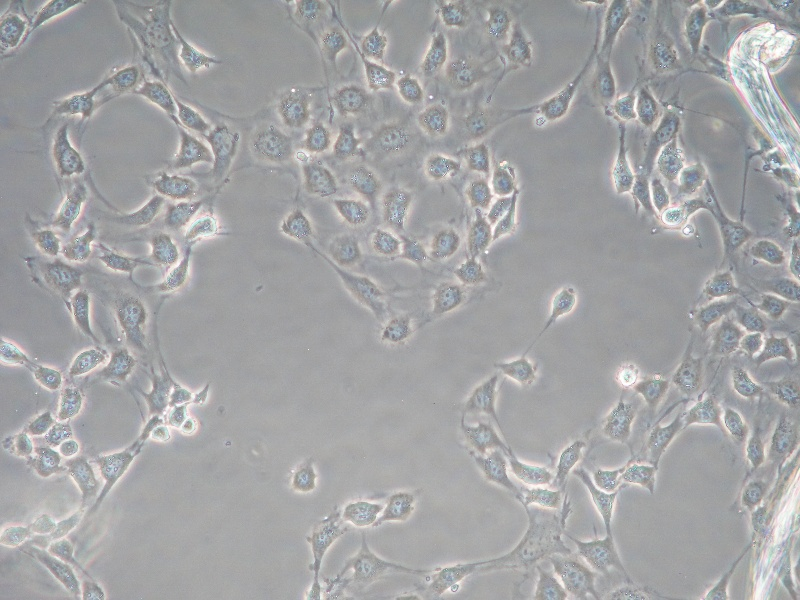cancer: (338, 270, 386, 317), (39, 550, 82, 598), (504, 448, 555, 487), (50, 124, 87, 176), (489, 198, 525, 246), (140, 79, 182, 117), (173, 129, 211, 171), (576, 536, 620, 572), (461, 416, 503, 452), (602, 399, 635, 444), (513, 482, 562, 512), (551, 557, 591, 593), (591, 62, 621, 110), (184, 213, 219, 254), (514, 532, 555, 567), (646, 416, 680, 458), (32, 1, 78, 32), (178, 39, 217, 75), (605, 1, 634, 49), (538, 86, 575, 123), (552, 439, 589, 476), (586, 483, 617, 527), (332, 195, 373, 228), (694, 298, 735, 331), (154, 171, 197, 202), (69, 344, 107, 379), (28, 443, 66, 478), (301, 159, 336, 197), (467, 210, 494, 259), (309, 514, 344, 551), (378, 188, 412, 226), (772, 413, 800, 459), (469, 454, 509, 486), (673, 355, 704, 396), (746, 237, 787, 268), (141, 376, 173, 415), (55, 90, 98, 119), (632, 85, 661, 128), (162, 258, 190, 302), (334, 83, 370, 117), (464, 375, 497, 412), (208, 124, 240, 162), (620, 459, 658, 491), (342, 499, 382, 529), (686, 3, 711, 51), (424, 27, 447, 79), (611, 151, 637, 197), (256, 126, 290, 161), (326, 233, 362, 266), (26, 361, 64, 392), (506, 25, 531, 72), (652, 108, 682, 147), (175, 99, 208, 134), (64, 461, 99, 494), (418, 104, 451, 139), (106, 348, 137, 385), (279, 92, 309, 130), (433, 280, 462, 319), (548, 282, 577, 321), (740, 475, 769, 514), (731, 366, 764, 400), (718, 219, 751, 253), (429, 565, 470, 592), (492, 161, 521, 199), (382, 492, 415, 525), (372, 125, 404, 159), (330, 124, 361, 159), (426, 228, 461, 259), (350, 549, 386, 579), (649, 39, 678, 76), (120, 297, 146, 338), (166, 201, 198, 234), (280, 209, 312, 242), (657, 203, 691, 234), (425, 153, 461, 182), (713, 323, 742, 359), (56, 385, 84, 422), (349, 165, 381, 197), (638, 376, 669, 409), (129, 199, 159, 233), (648, 177, 674, 216), (361, 27, 389, 63), (502, 358, 538, 386), (99, 451, 131, 482), (30, 228, 63, 258), (42, 264, 83, 288), (60, 235, 95, 263), (455, 259, 490, 287), (678, 160, 706, 195), (72, 289, 91, 340), (292, 460, 318, 497), (364, 60, 394, 92), (370, 228, 401, 258), (400, 237, 429, 269), (754, 288, 786, 317), (1, 15, 27, 50), (704, 273, 739, 299), (381, 314, 411, 344), (110, 64, 141, 93), (463, 175, 492, 206), (592, 465, 623, 494), (145, 19, 173, 51), (774, 376, 800, 410), (769, 275, 800, 303), (304, 120, 331, 152), (58, 195, 86, 225), (1, 341, 32, 368), (610, 93, 641, 120), (689, 400, 721, 426), (99, 252, 138, 273), (454, 59, 478, 93), (395, 73, 423, 102), (737, 331, 766, 359), (535, 574, 566, 600), (468, 143, 493, 175), (143, 416, 171, 444), (440, 1, 468, 29), (153, 234, 178, 265), (26, 409, 55, 435), (169, 383, 195, 412), (321, 28, 346, 58), (4, 434, 34, 459), (47, 537, 78, 561), (746, 434, 766, 471), (724, 406, 746, 439), (486, 9, 510, 39), (738, 305, 765, 331), (62, 178, 90, 202), (615, 359, 639, 387), (781, 205, 800, 240), (702, 578, 732, 600), (30, 511, 57, 534), (1, 525, 30, 546), (298, 1, 321, 27), (78, 582, 109, 600), (468, 114, 489, 136), (58, 439, 83, 457), (304, 577, 321, 600), (179, 418, 198, 435)
